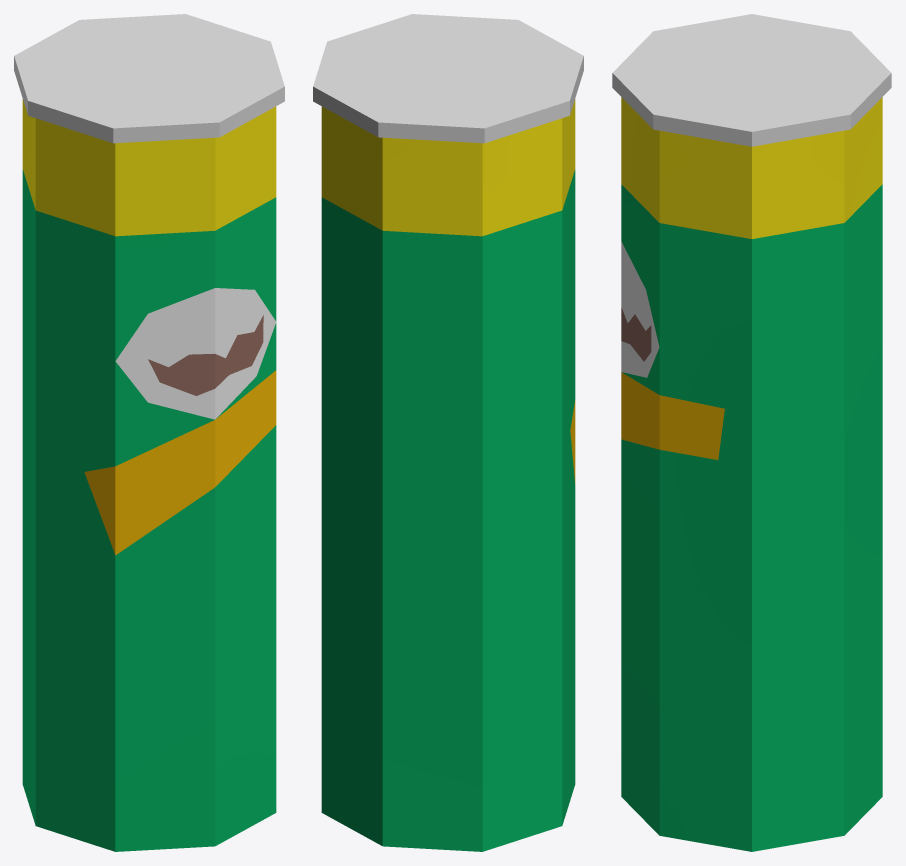
File: chips_001.fbx
3 views of the same model, side by side, from view 1: azimuth 30°, elevation 25°; view 2: azimuth 150°, elevation 25°; view 3: azimuth 270°, elevation 25° (orthographic).
Visible parts, largest first — view 1: chips_001; view 2: chips_001; view 3: chips_001.
Part boxes in pixels (left/top/right/bottom): chips_001: left=14, top=14, right=284, bottom=851; chips_001: left=313, top=14, right=583, bottom=851; chips_001: left=612, top=14, right=891, bottom=851.
Size of the model in its own units: 0.0809 by 0.2316 by 0.0809.
